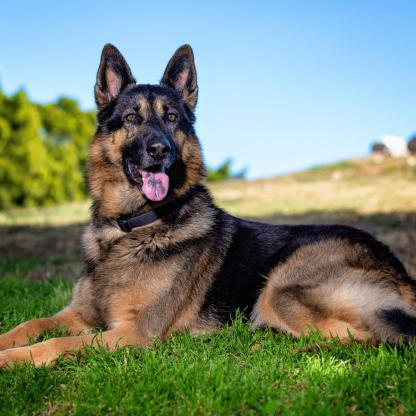dog: (30, 41, 409, 351)
